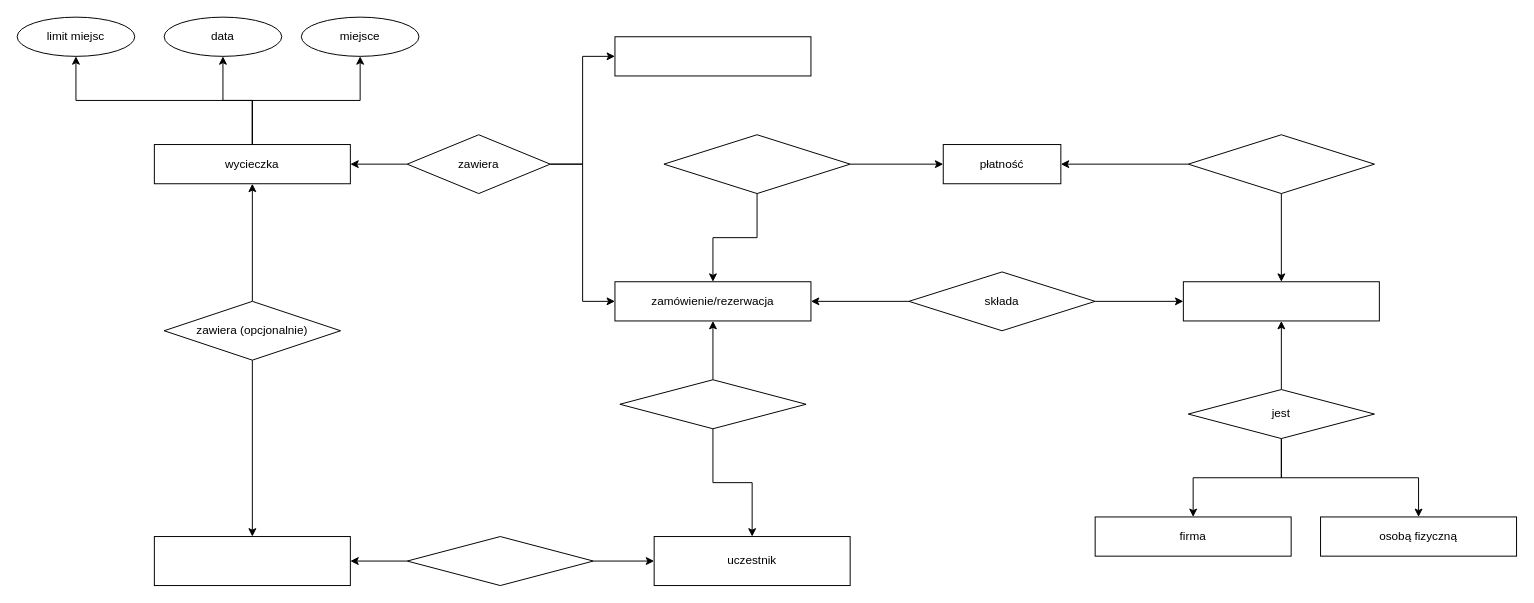
Some shapes in this 1534 by 603 pixel diagram are drawn without their labels. The centre of each missing label's shape, as x and y in pixels:
"dodatkowe atrakcje" goes at point 251,561.
"dokonuje" goes at point 1280,164.
"idzie" goes at point 499,561.
"jest opłacone" goes at point 756,164.
"klient" goes at point 1280,301.
"oferta" goes at point 712,56.
"zgłoszony" goes at point 712,404.
